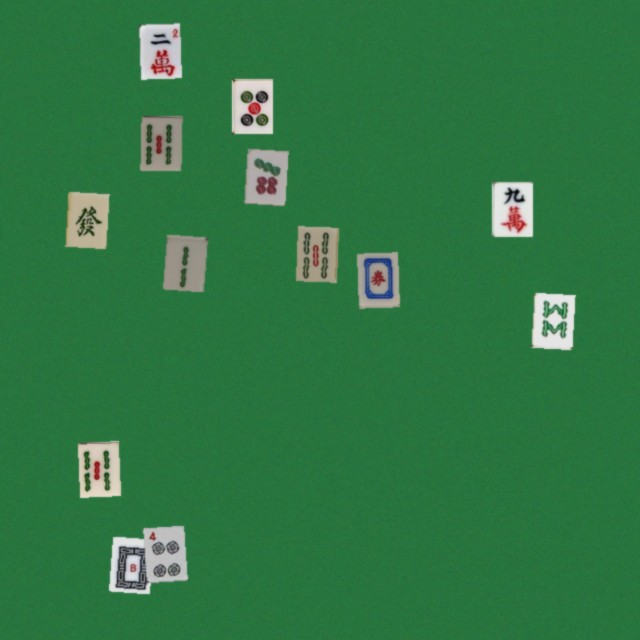tile: (491, 181, 532, 236), (357, 252, 398, 307), (231, 78, 272, 133), (531, 292, 572, 347), (108, 536, 149, 591), (65, 191, 106, 246), (244, 148, 285, 203), (295, 226, 336, 281), (77, 441, 118, 496), (139, 23, 180, 78), (162, 234, 203, 289), (140, 115, 181, 170), (143, 525, 184, 580)
